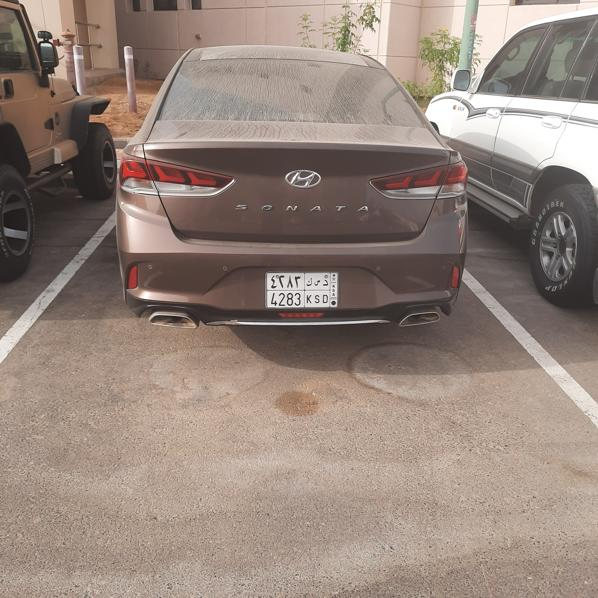numberplate: (266, 272, 341, 309)
